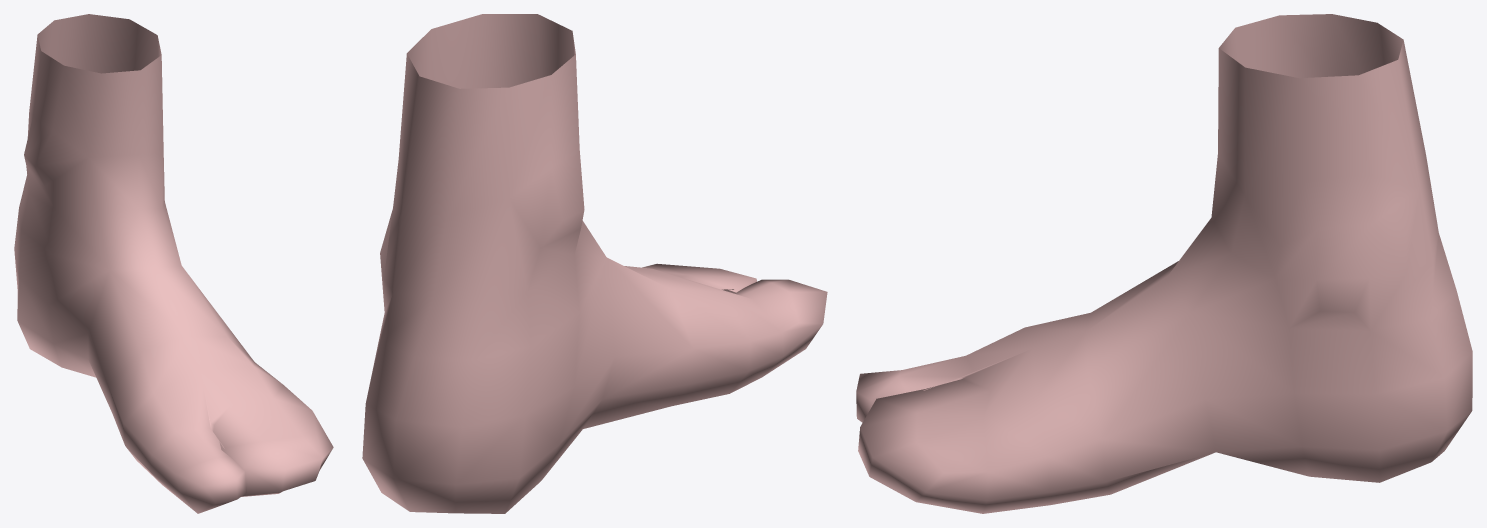
Rendered from Anime_Female_A_Foot03.fbx.
The picture shows the model from 3 angles, left to right: view 1: azimuth 30°, elevation 25°; view 2: azimuth 150°, elevation 25°; view 3: azimuth 270°, elevation 25°; orthographic projection. The views are drawn at different scales.
Parts seen in each view (by area): view 1: Anime_Female_A_Foot03; view 2: Anime_Female_A_Foot03; view 3: Anime_Female_A_Foot03.
Boxes of the visible parts, x1,y1,x2,y2 form: Anime_Female_A_Foot03: [14, 14, 333, 513]; Anime_Female_A_Foot03: [362, 14, 827, 513]; Anime_Female_A_Foot03: [856, 14, 1472, 513].
Size of the model in its own units: 0.5339 by 0.9905 by 1.29.
